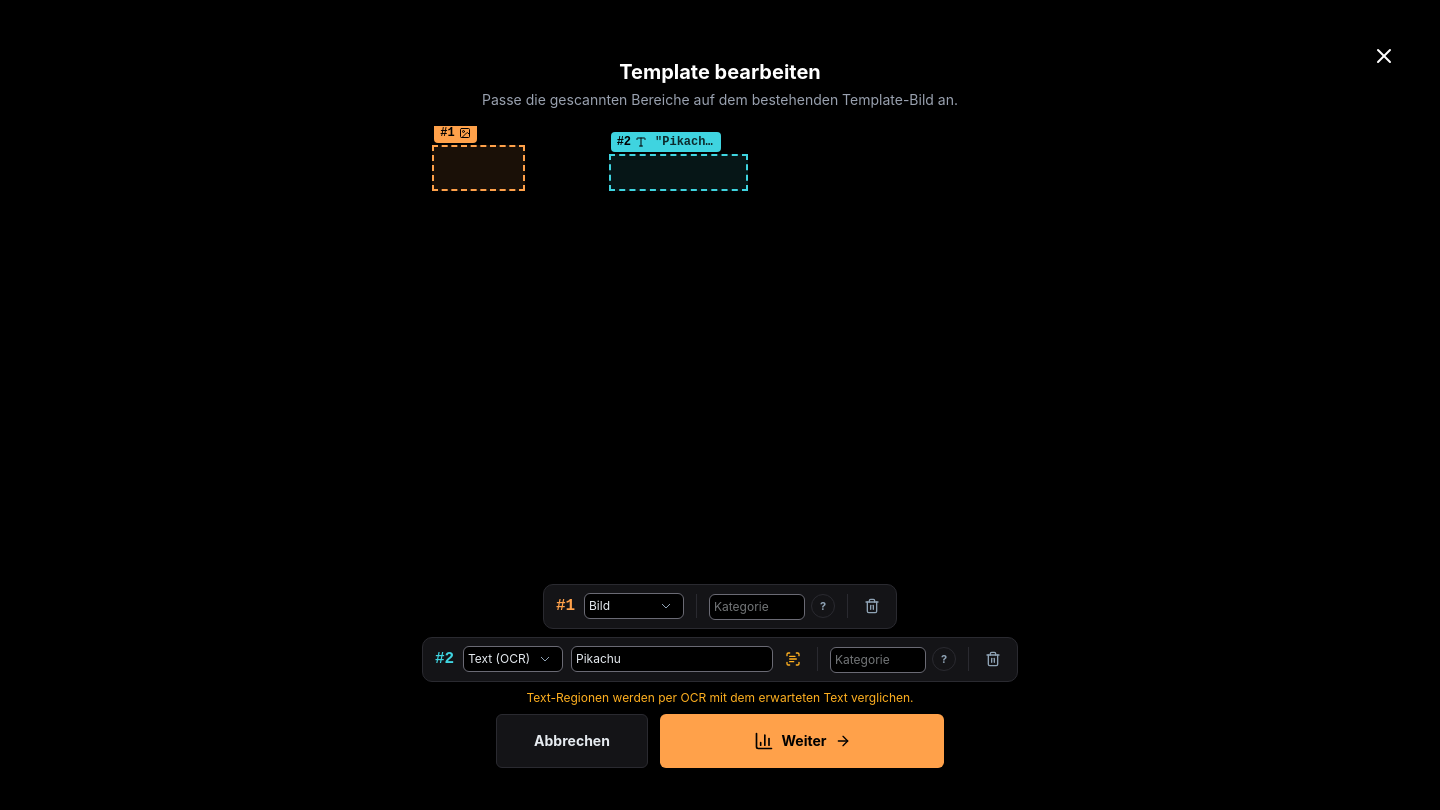
TemplateEditor › deletes a region when delete button is clicked
The image size is (1440, 810).
# Delete the first region
What coordinates should you click on to do the following:
click the 1st button titled "Region löschen"
I would click on:
 (872, 606)
Its box is [860,594,884,618].
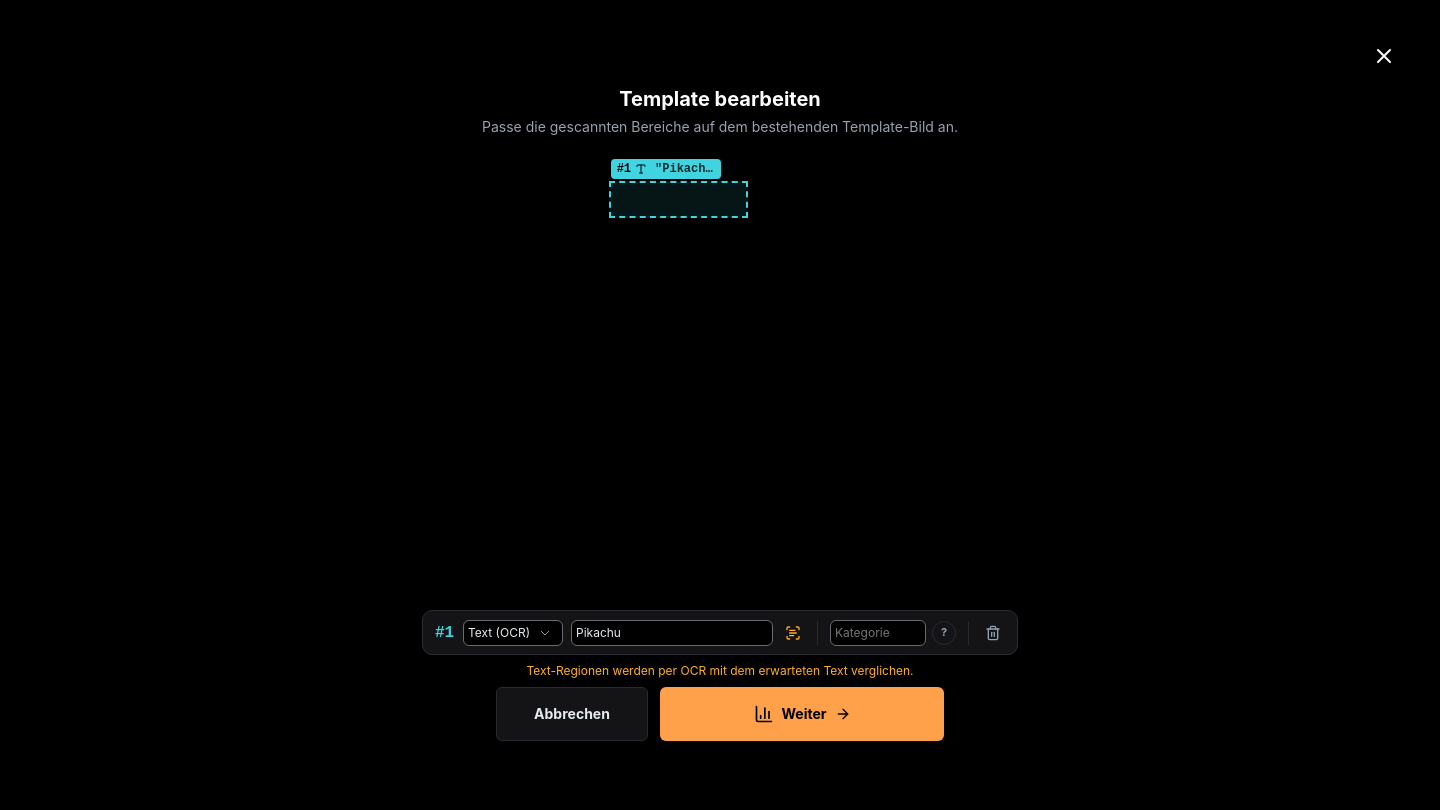
Expected: the number of buttons titled "Region löschen" is 1, [981,621,1005,645]
